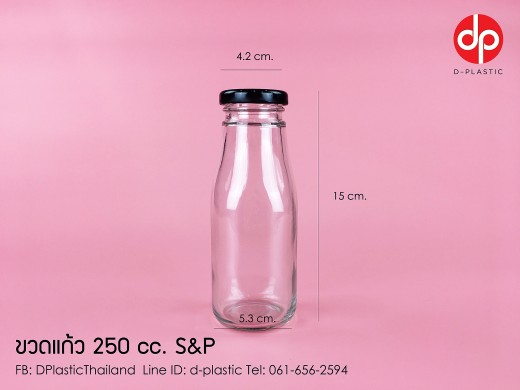glass_bottleww: (201, 38, 363, 365)
